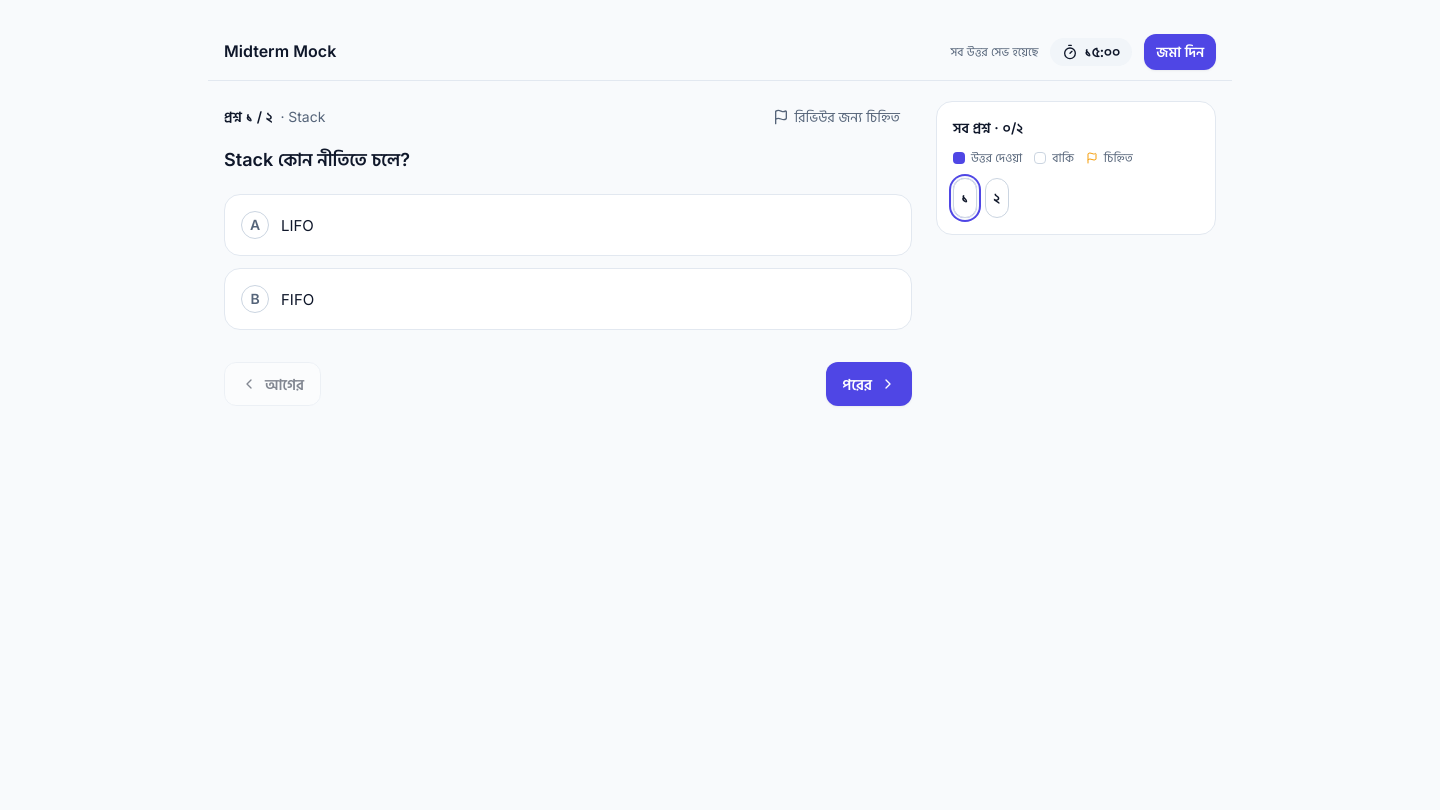
mock test runner › autosaves the chosen option (not a stale value), flags, navigates, submits with confirmation
The width and height of the screenshot is (1440, 810).
Expected: the text "Stack কোন নীতিতে চলে?" is shown, x1=224 y1=149 x2=410 y2=170
Expected: the element showing "১৫:০০" is shown, x1=1050 y1=38 x2=1132 y2=66
Click the radio button labelled "A LIFO" at (297, 226), box x1=224 y1=194 x2=912 y2=256
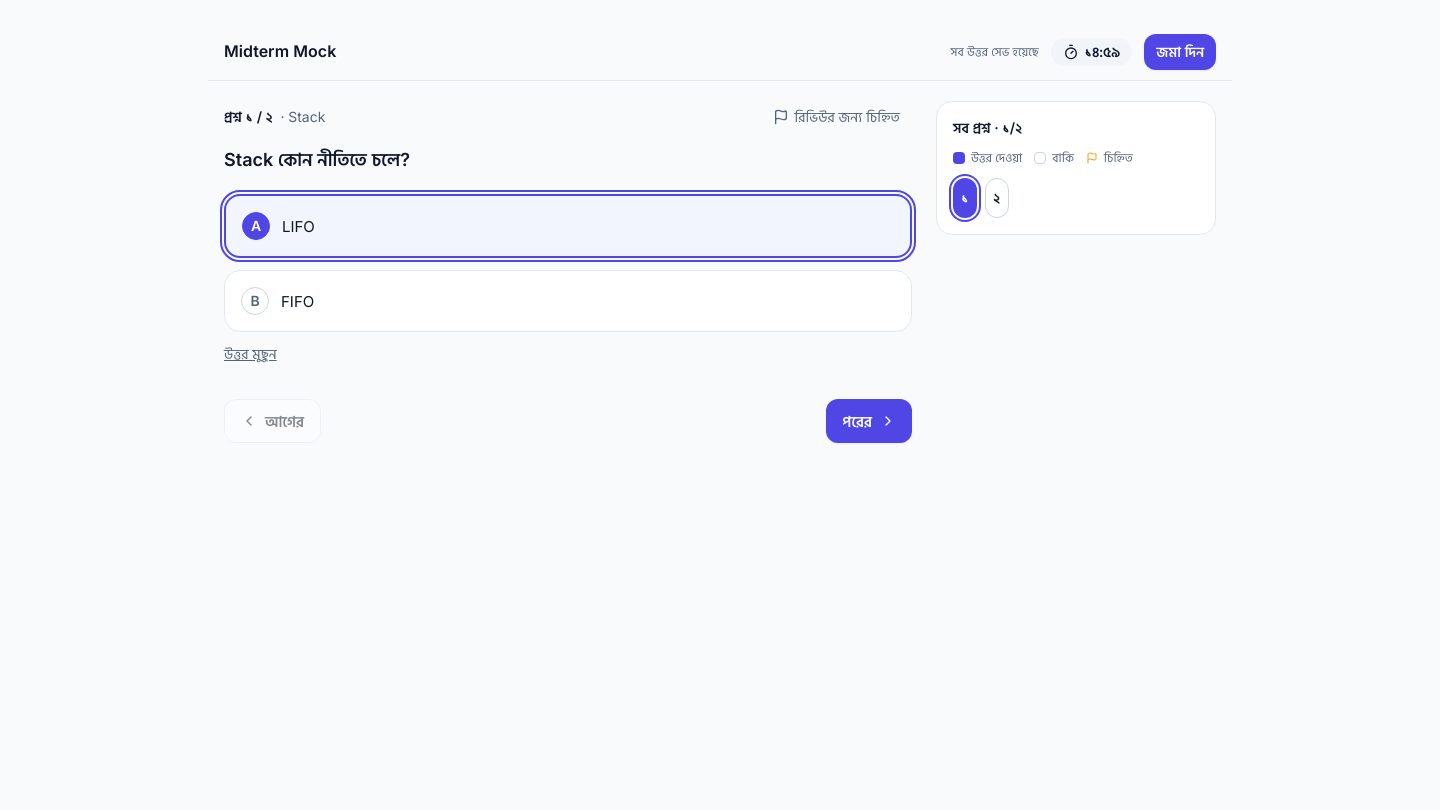
Click the button "রিভিউর জন্য চিহ্নিত" at (836, 117), box x1=761 y1=101 x2=912 y2=133
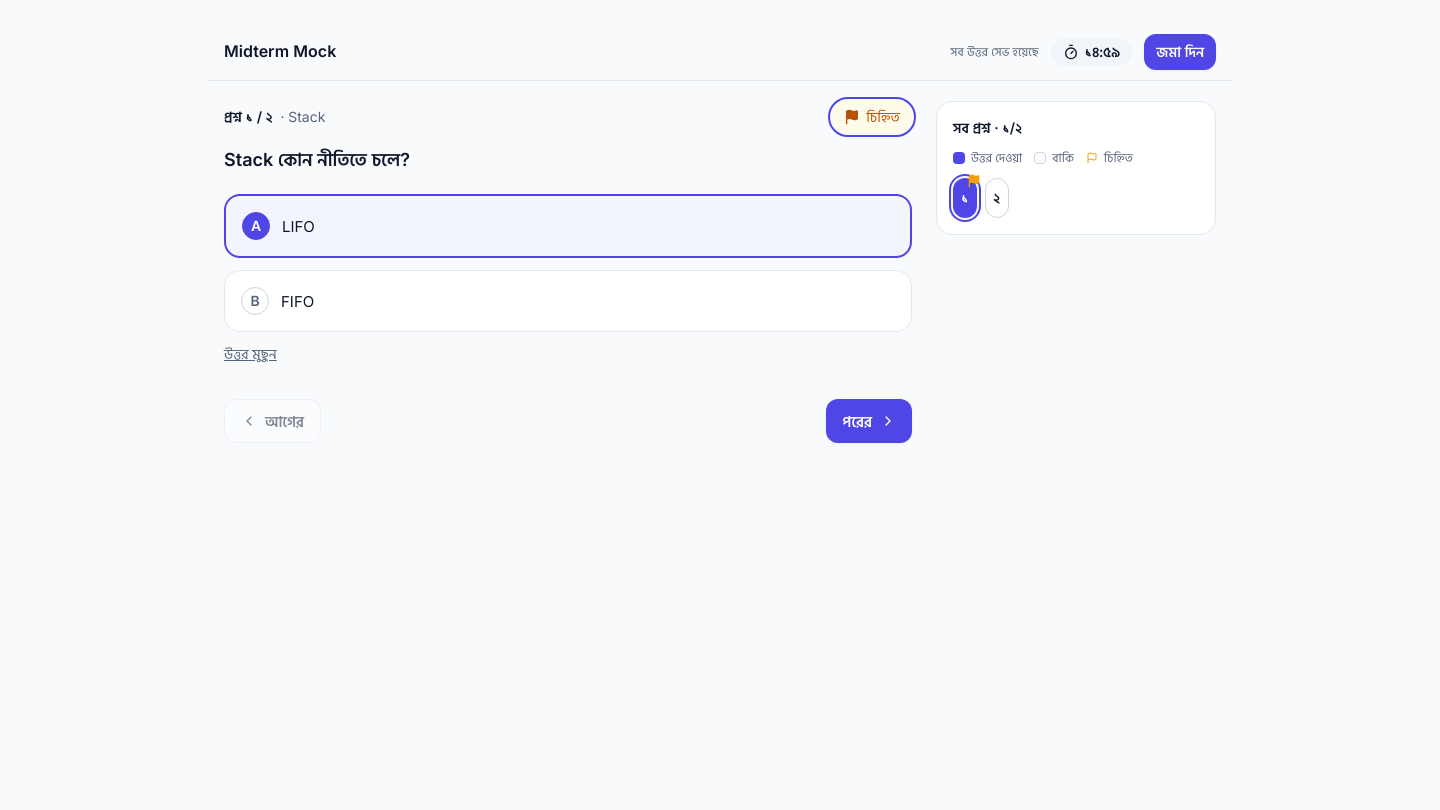
Click the button "পরের" at (869, 421), box x1=826 y1=399 x2=912 y2=443
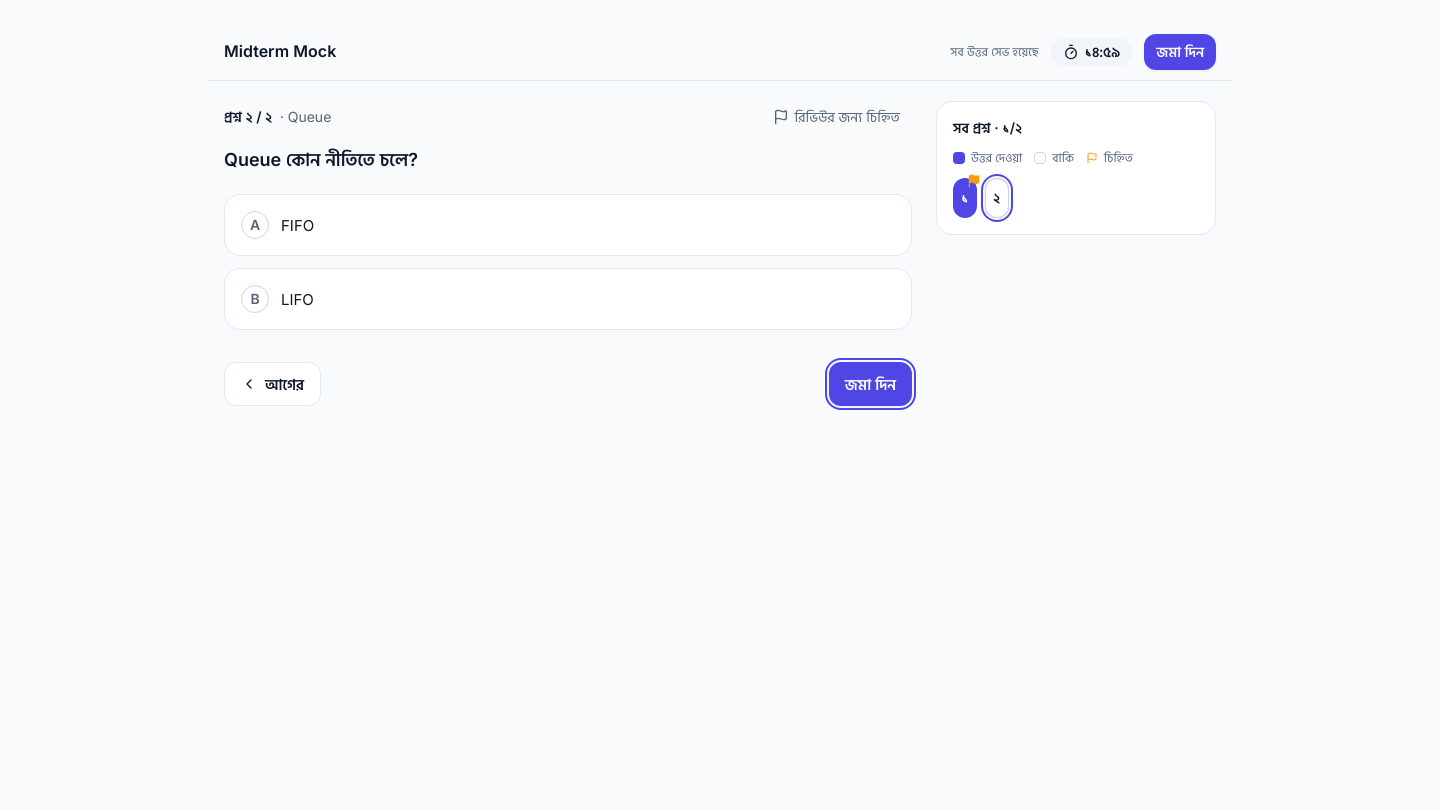
Expected: the text "Queue কোন নীতিতে চলে?" is shown, x1=224 y1=149 x2=418 y2=170
Click the button "জমা দিন" next to "১৪:৫৯" at (1180, 52), box x1=1144 y1=34 x2=1216 y2=70
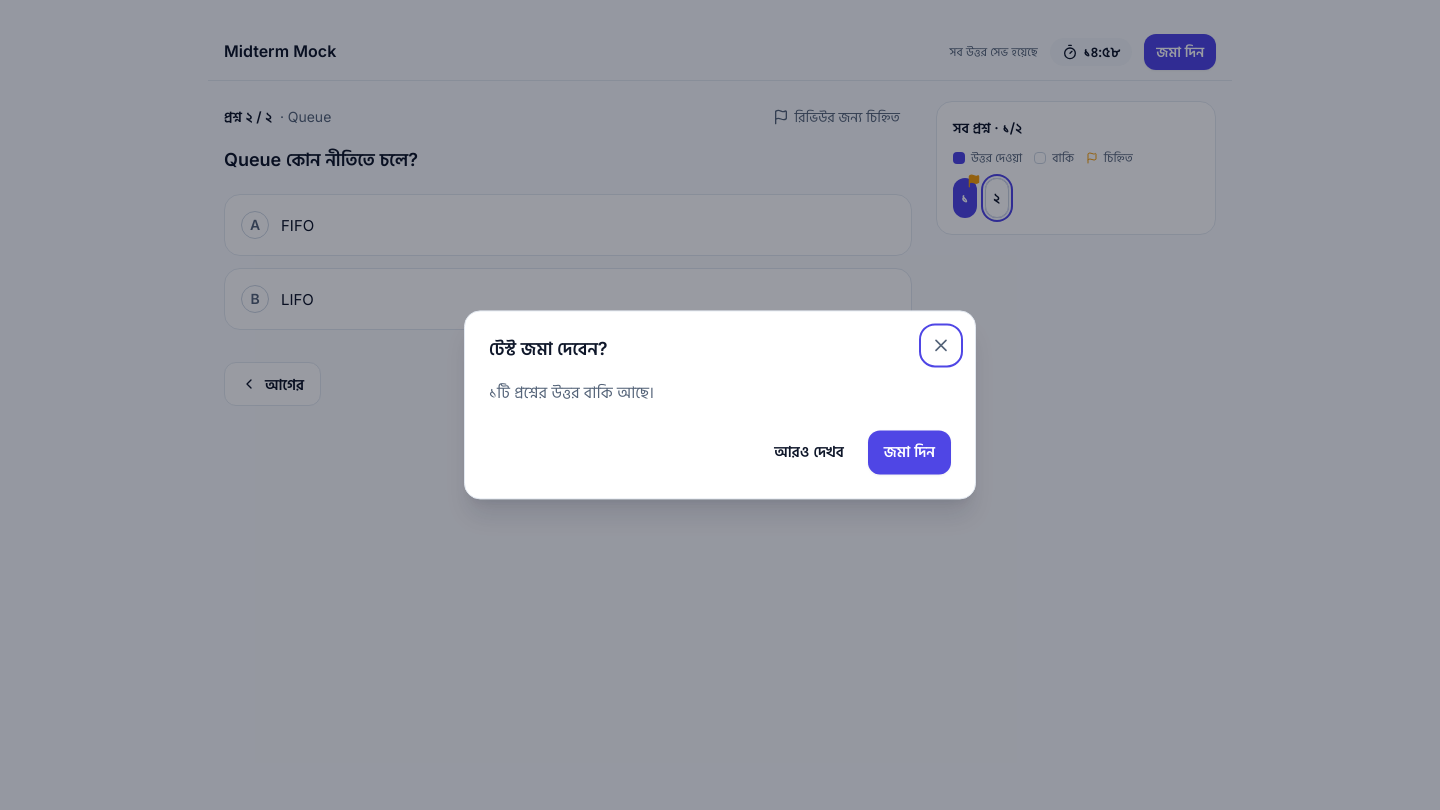
Expected: the text "১টি প্রশ্নের উত্তর বাকি আছে।" is shown, x1=489 y1=382 x2=654 y2=402
Click the button "জমা দিন" at (909, 453), box x1=868 y1=431 x2=951 y2=475
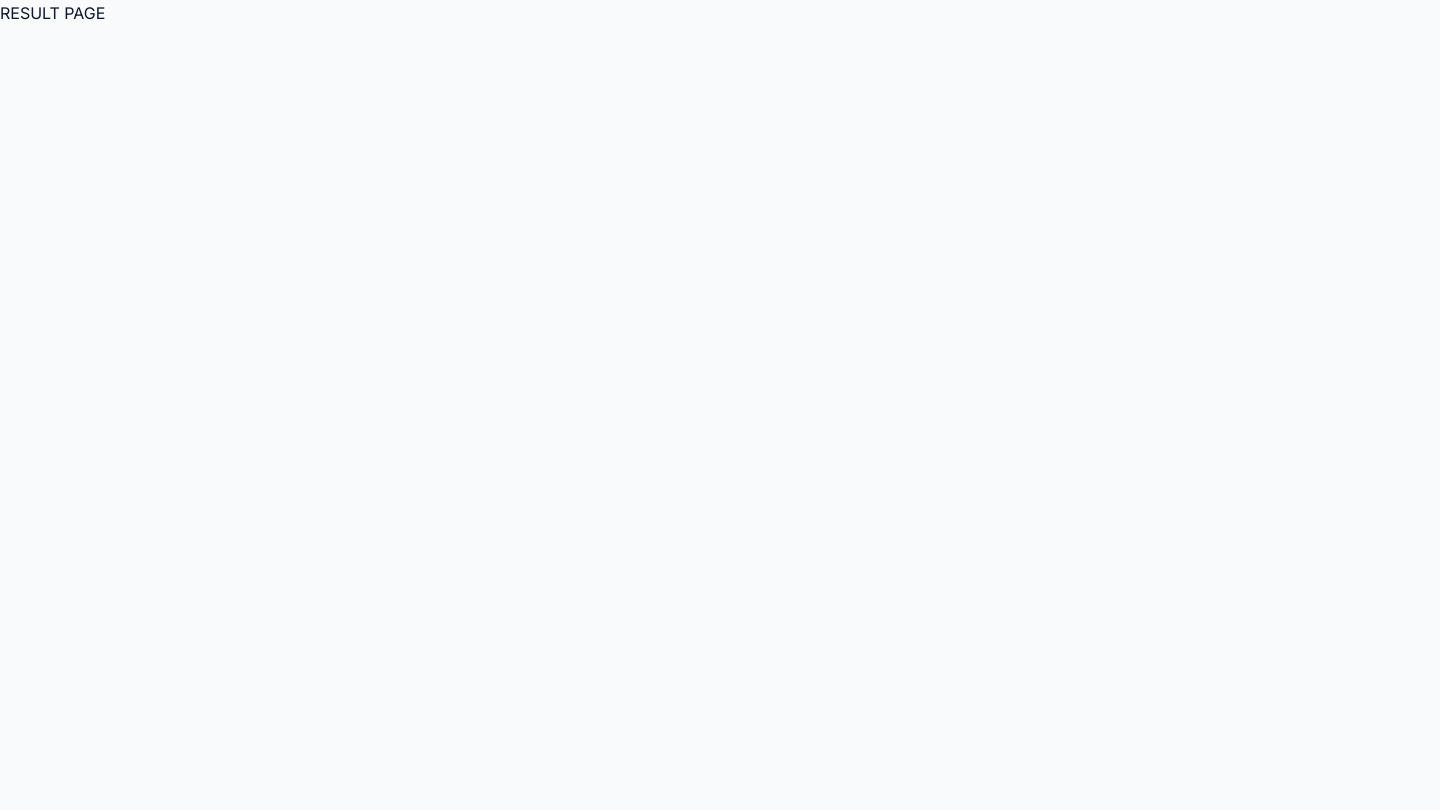
Expected: the text "RESULT PAGE" is shown, x1=0 y1=3 x2=105 y2=23
